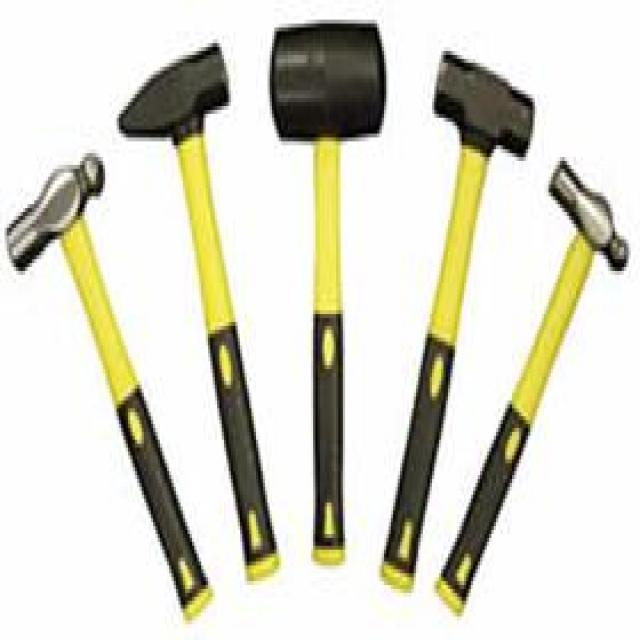hammer: (0, 137, 224, 640), (110, 33, 292, 594), (435, 145, 637, 640), (376, 40, 542, 610), (255, 0, 396, 581)
